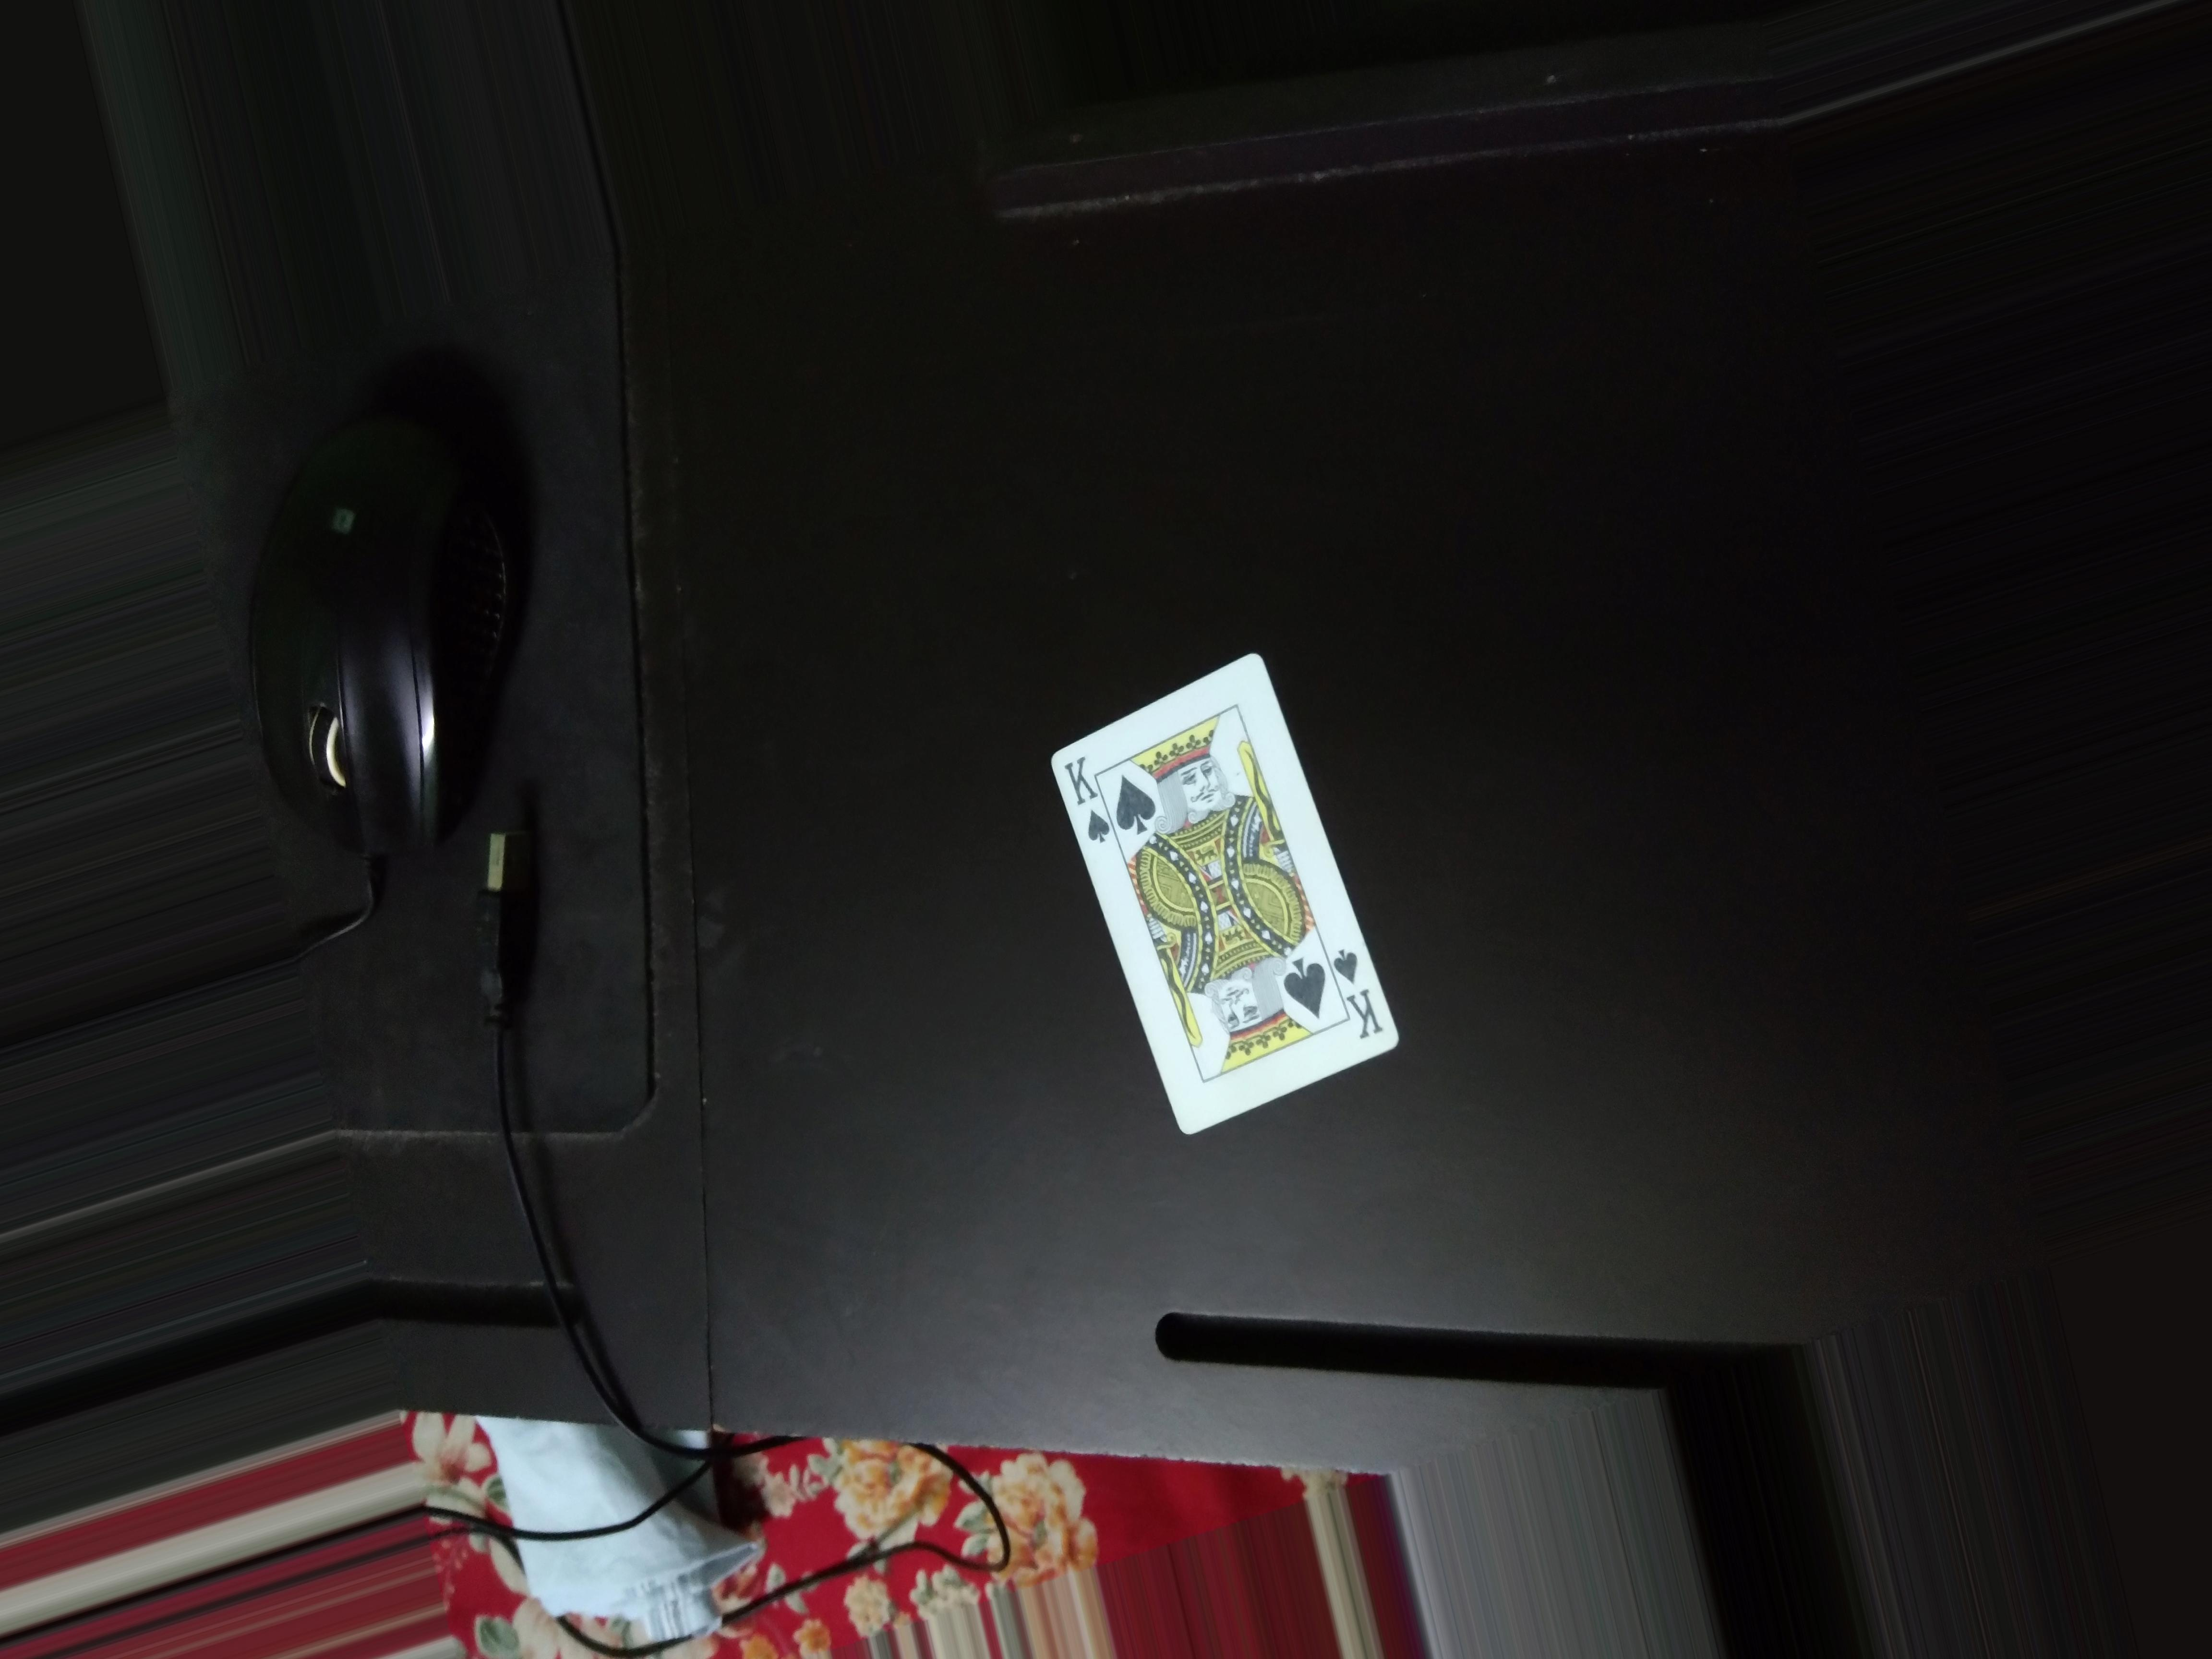KS: (1062, 755, 1118, 856)
